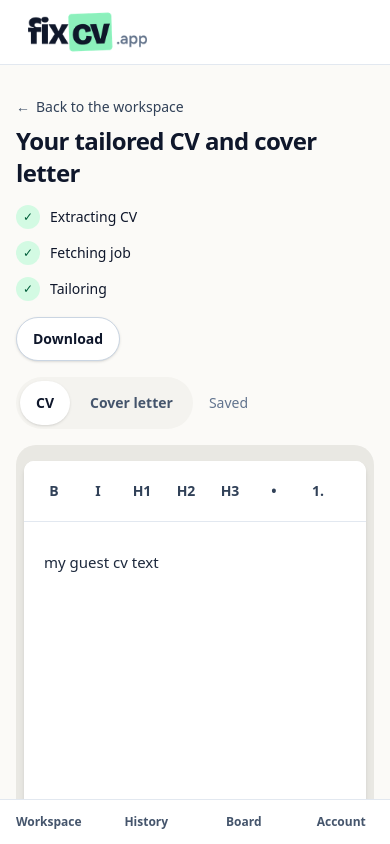
Test: succeeded guest run page › has exactly one export region, with the sheet closed and open
Expected: the element named "Your documents" is shown, [16, 377, 193, 429]
Click the button "Download" at (68, 339), box [16, 317, 120, 361]
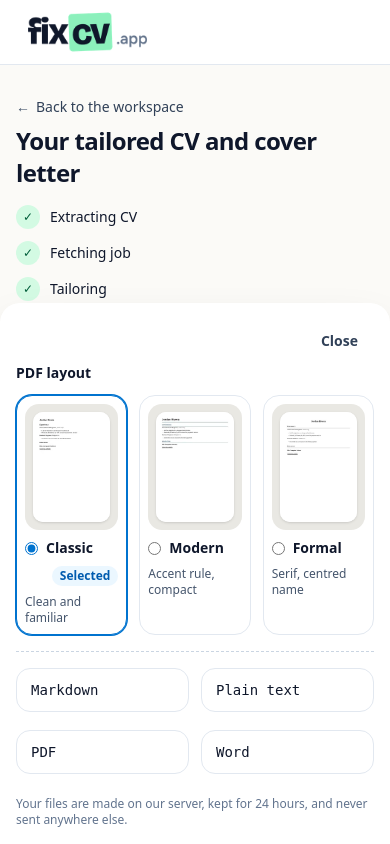
Expected: the number of elements named "Download this document" is 1, [16, 364, 374, 828]
